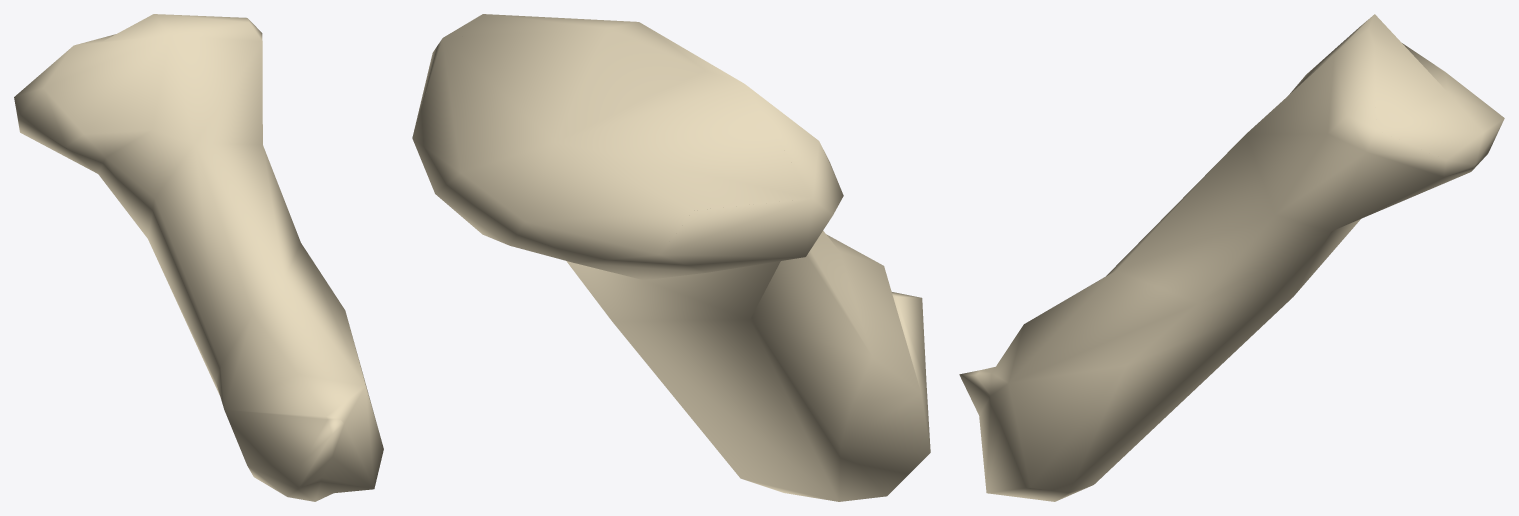
Rendered from esqueleto-distal-phalanx-of-fifth-finger-of-hand-r.glb.
3 renders of one model, left to right at view 1: azimuth 30°, elevation 25°; view 2: azimuth 150°, elevation 25°; view 3: azimuth 270°, elevation 25°, orthographic. The views are drawn at different scales.
Visible parts, largest first — view 1: Distal phalanx of fifth finger of hand.r; view 2: Distal phalanx of fifth finger of hand.r; view 3: Distal phalanx of fifth finger of hand.r.
Boxes of the visible parts, left/top/right/bottom form: Distal phalanx of fifth finger of hand.r: left=14, top=14, right=383, bottom=501; Distal phalanx of fifth finger of hand.r: left=412, top=14, right=930, bottom=501; Distal phalanx of fifth finger of hand.r: left=959, top=14, right=1504, bottom=501.
Size of the model in its own units: 0.00858 by 0.0131 by 0.0148.
